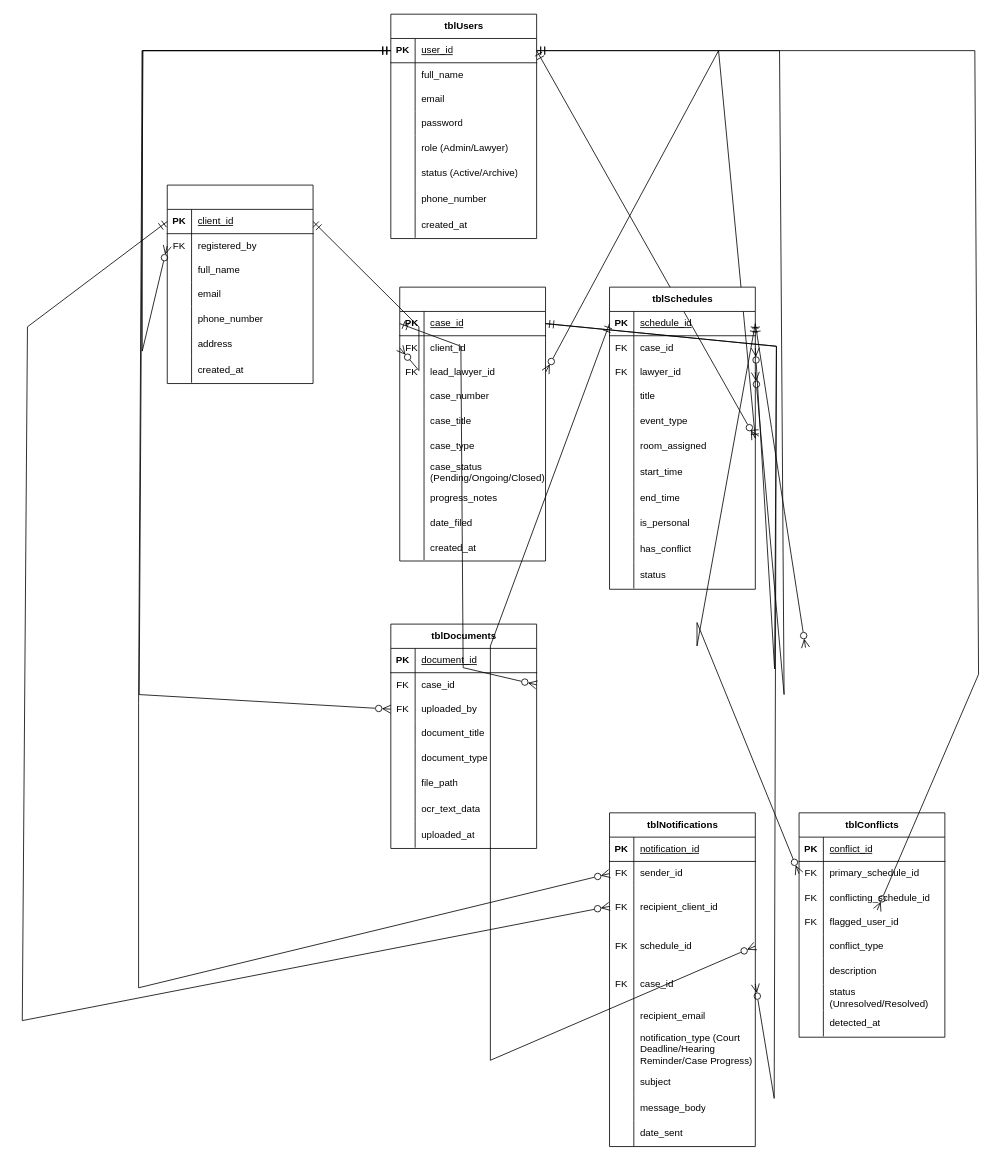
Some shapes in this 1002 by 1161 pixel diagram are drawn without their labels. The box of each missing label's shape, as (x1, y1, x2, y2) in pixels:
tblCaseProfiles: (399, 286, 546, 561)
tblClients: (166, 184, 313, 384)
